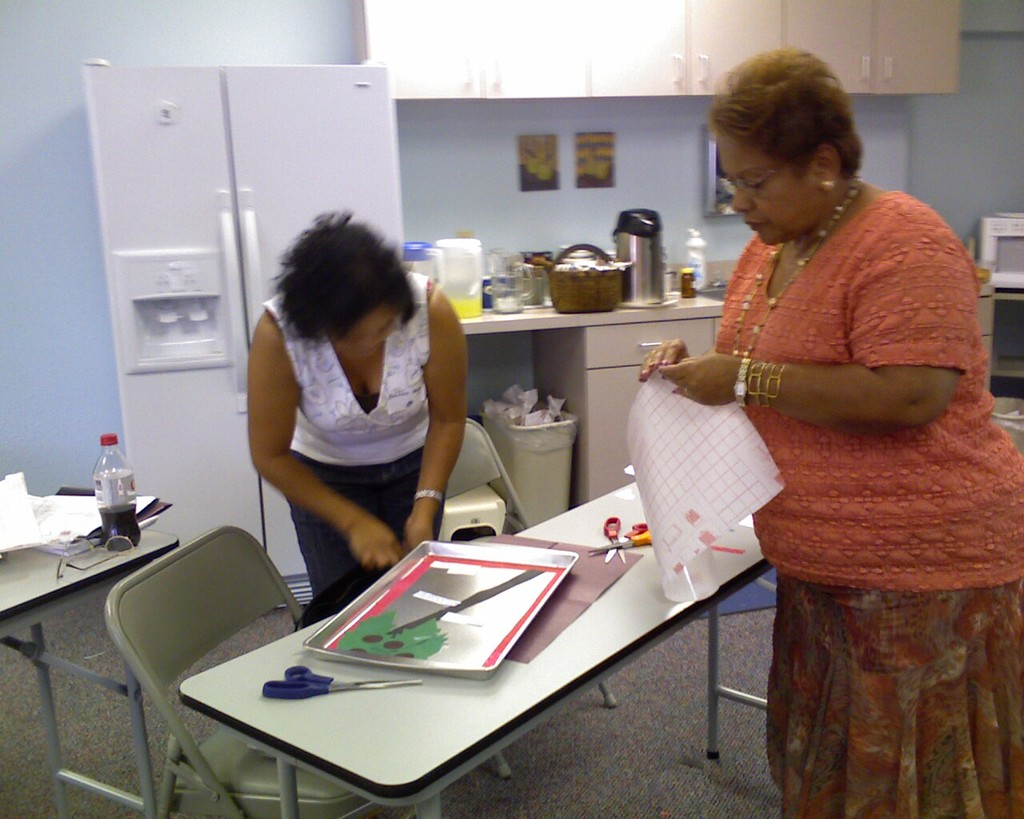Table: (124, 490, 795, 816)
